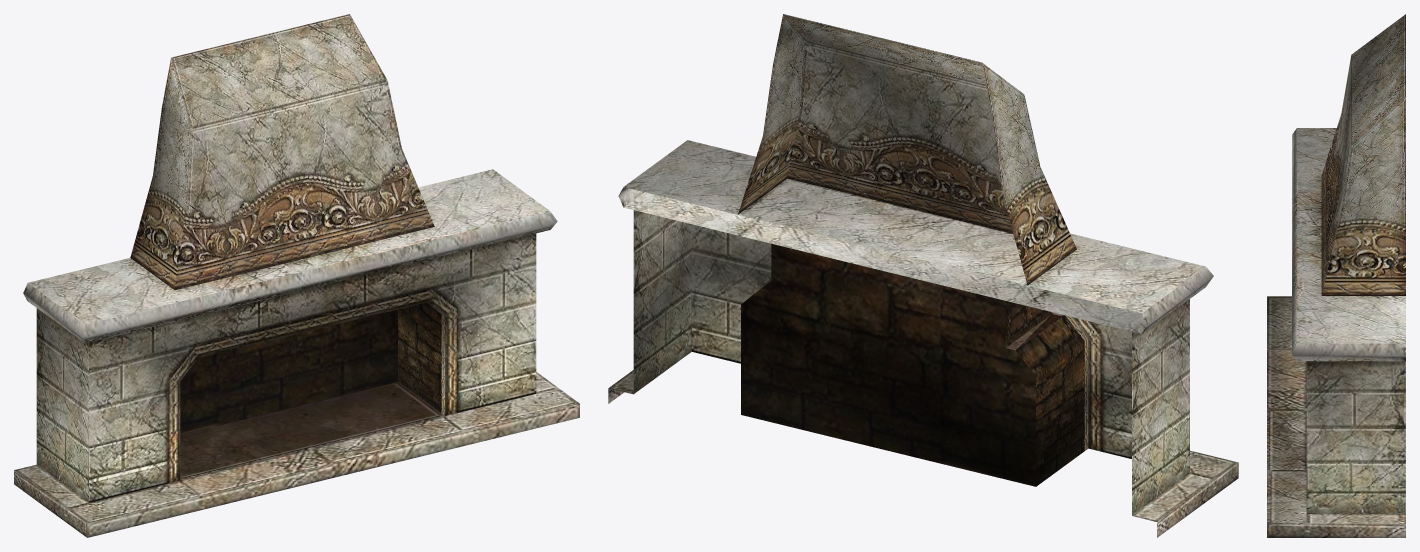
The model's file is NW_CITY_FIREPLACE_LARGE_02.glb.
3 renders of one model, left to right at view 1: azimuth 30°, elevation 25°; view 2: azimuth 150°, elevation 25°; view 3: azimuth 270°, elevation 25°, orthographic. The views are drawn at different scales.
Visible parts, largest first — view 1: Mesh; view 2: Mesh; view 3: Mesh.
Boxes of the visible parts, left/top/right/bottom form: Mesh: left=14, top=14, right=579, bottom=537; Mesh: left=608, top=14, right=1238, bottom=537; Mesh: left=1267, top=14, right=1405, bottom=537.
Bounding box in the file's own units: 5.43 × 4.09 × 1.4.
Materials: 1 (1 with a texture image).
